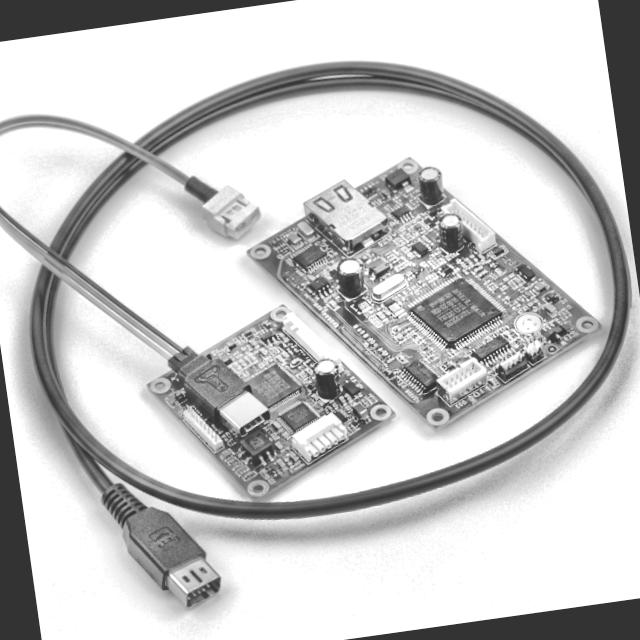Cable: (0, 11, 640, 629)
PCB: (233, 133, 612, 453), (139, 292, 405, 514)
